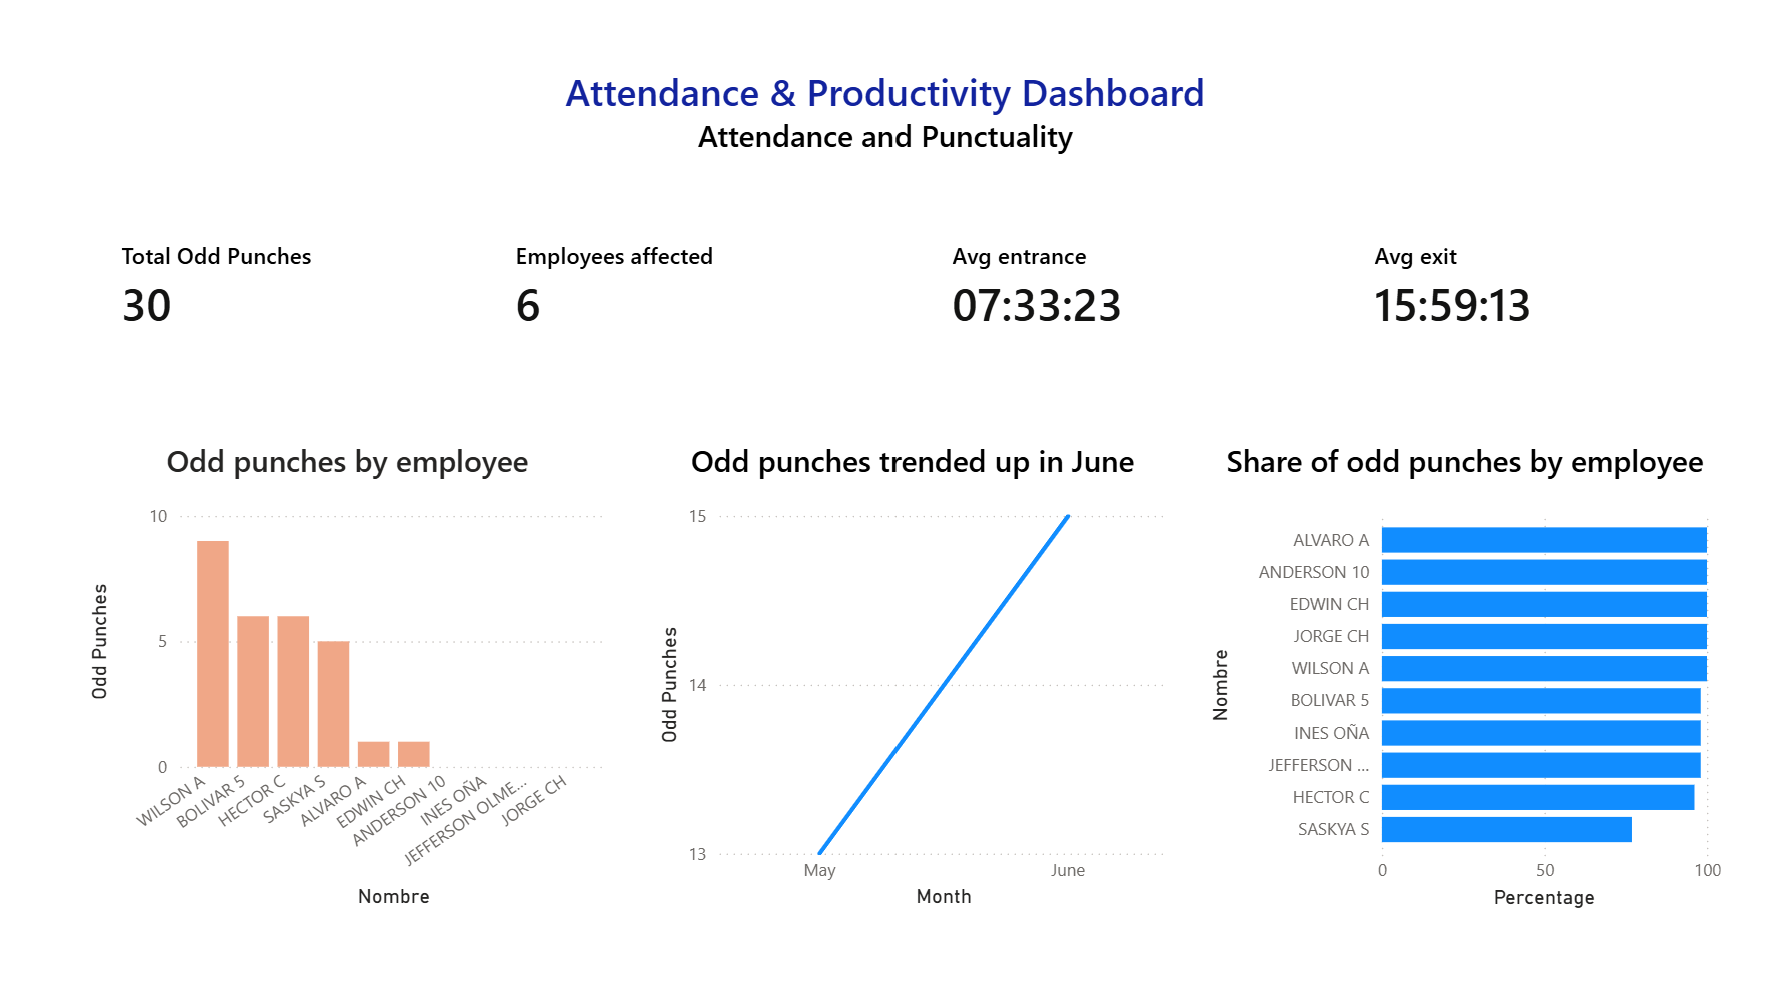

This screenshot's page, from the dashboard's own definition file:
{"tool":"powerbi","page":{"name":"Attendance and Punctuality","canvas":[1280,720],"ordinal":2},"visuals":[{"type":"cardVisual","fields":{"Data":["Sum(public vw_company_overview.total_odd_punches)"]},"box":[59.1,145.6,300,125],"z":0},{"type":"cardVisual","fields":{"Data":["Sum(public vw_company_overview.employees_with_odd_punches)"]},"box":[339.7,145.6,300,125],"z":1000},{"type":"cardVisual","fields":{"Data":["Min(public vw_company_overview.avg_entrance)"]},"box":[652.1,145.6,300,125],"z":2000},{"type":"cardVisual","fields":{"Data":["Min(public vw_company_overview.avg_exit)"]},"box":[952.4,145.6,300,125],"z":3000},{"type":"clusteredColumnChart","title":"Odd punches by employee","fields":{"Y":["Sum(public vw_employee_summary.Odd_Punches)"],"Category":["public vw_employee_summary.Nombre"]},"box":[59.1,318.5,380.7,338.2],"z":4000},{"type":"lineChart","title":"Odd punches trended up in June","fields":{"Category":["public vw_employee_summary.Month_Name"],"Y":["Sum(public vw_employee_summary.Odd_Punches)"]},"box":[465.6,318.5,373.1,338.2],"z":5000},{"type":"clusteredBarChart","title":"Share of odd punches by employee","fields":{"Category":["public vw_attendance_percentage.Nombre"],"Y":["Avg(public vw_attendance_percentage.percentage_attendance)"]},"box":[858.6,318.6,375.7,338.6],"z":6000},{"type":"textbox","box":[44,45.5,1176.9,100.1],"z":7000}]}

Visuals, with their boxes in screenshot pixels (x1, y1, x2, y2), scaled from the page's 1280x720 canvas onto the 1786x1000 screenshot:
cardVisual - Sum(public vw_company_overview.total_odd_punches): x1=82, y1=202, x2=501, y2=376
cardVisual - Sum(public vw_company_overview.employees_with_odd_punches): x1=474, y1=202, x2=893, y2=376
cardVisual - Min(public vw_company_overview.avg_entrance): x1=910, y1=202, x2=1328, y2=376
cardVisual - Min(public vw_company_overview.avg_exit): x1=1329, y1=202, x2=1747, y2=376
"Odd punches by employee" clusteredColumnChart: x1=82, y1=442, x2=614, y2=912
"Odd punches trended up in June" lineChart: x1=650, y1=442, x2=1170, y2=912
"Share of odd punches by employee" clusteredBarChart: x1=1198, y1=442, x2=1722, y2=913
textbox: x1=61, y1=63, x2=1704, y2=202
